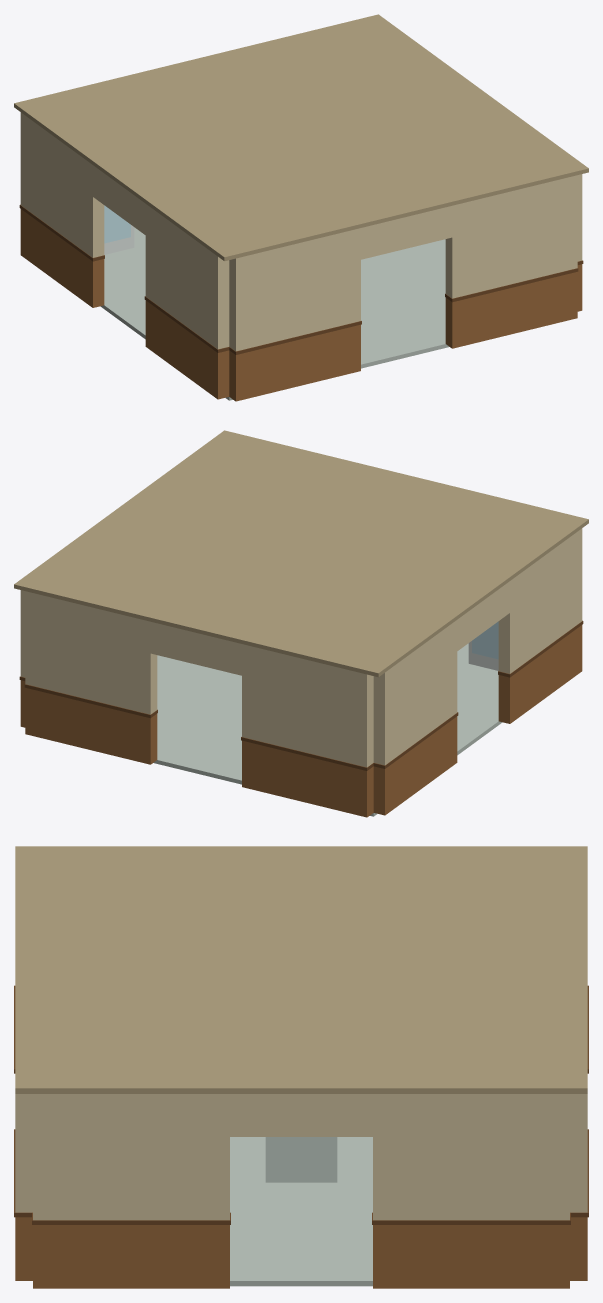
The model's file is room_botany_seed_vault.glb.
3 views of the same model, one above another, from view 1: azimuth 30°, elevation 25°; view 2: azimuth 150°, elevation 25°; view 3: azimuth 270°, elevation 25° (orthographic). The views are drawn at different scales.
Parts seen in each view (by area): view 1: room_botany_seed_vault; view 2: room_botany_seed_vault; view 3: room_botany_seed_vault.
Boxes of the visible parts, x1=… form: room_botany_seed_vault: x1=14, y1=14, x2=588, y2=401; room_botany_seed_vault: x1=14, y1=430, x2=588, y2=817; room_botany_seed_vault: x1=14, y1=846, x2=588, y2=1288.
Size of the model in its own units: 9.62 by 3.8 by 9.64.
Materials: 1 (1 with a texture image).
